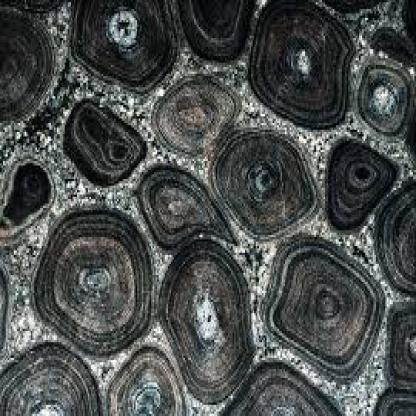Igneous_Diorite: (6, 11, 415, 414)
